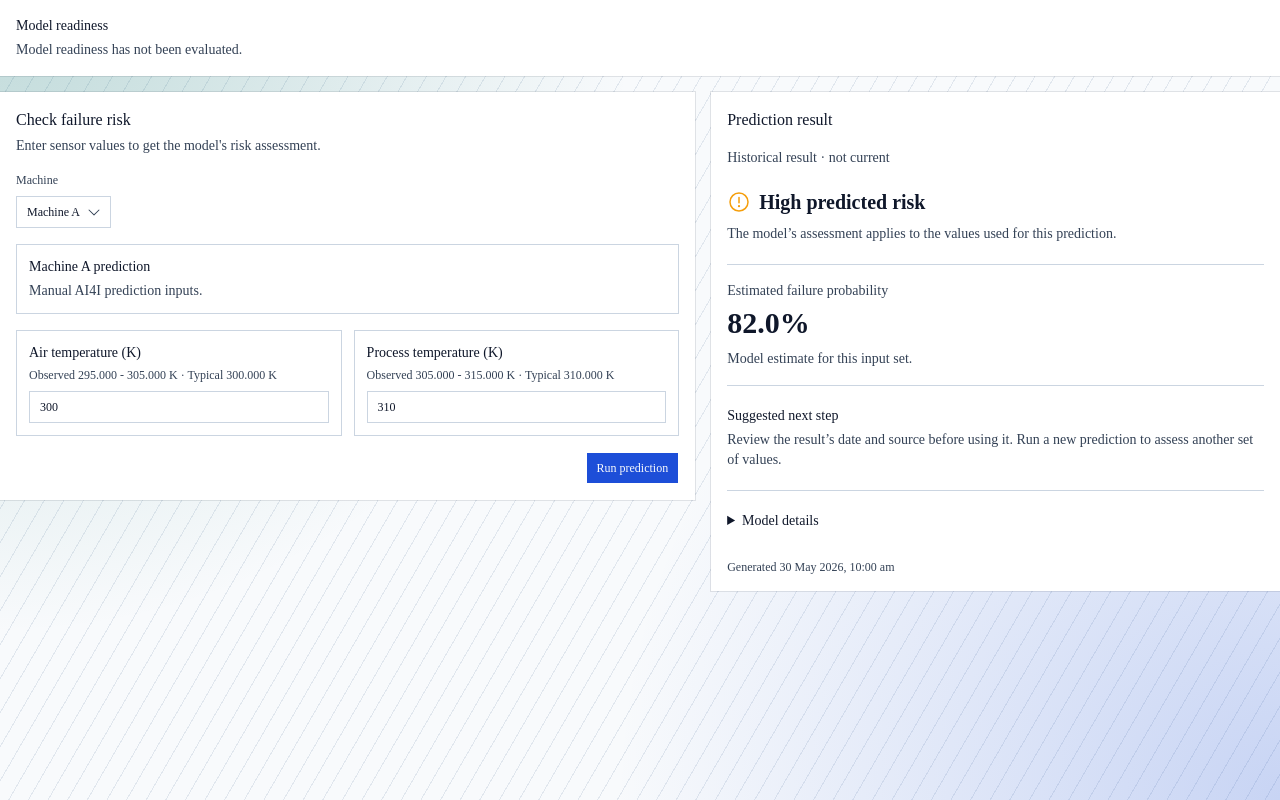
Test case: a slower config response preserves the linked historical result; running again labels the new result correctly
The image size is (1280, 800).
Check: the text "Historical result · not current" is shown, box [727,148,890,168]
Click the button "Run prediction". click: (632, 468)
box: [586,452,679,484]
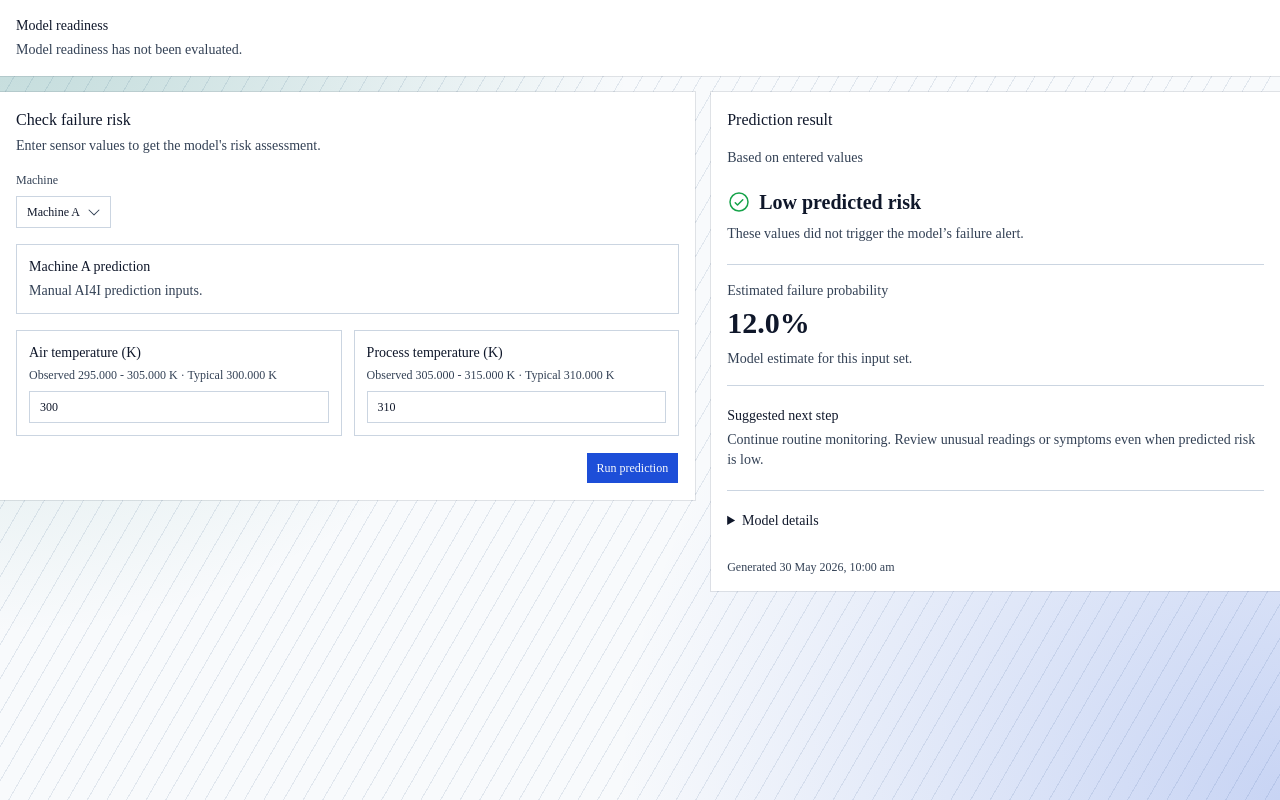
Check: the text "Based on entered values" is shown, box [727,148,863,168]
Check: the text "Historical result · not current" is gone
